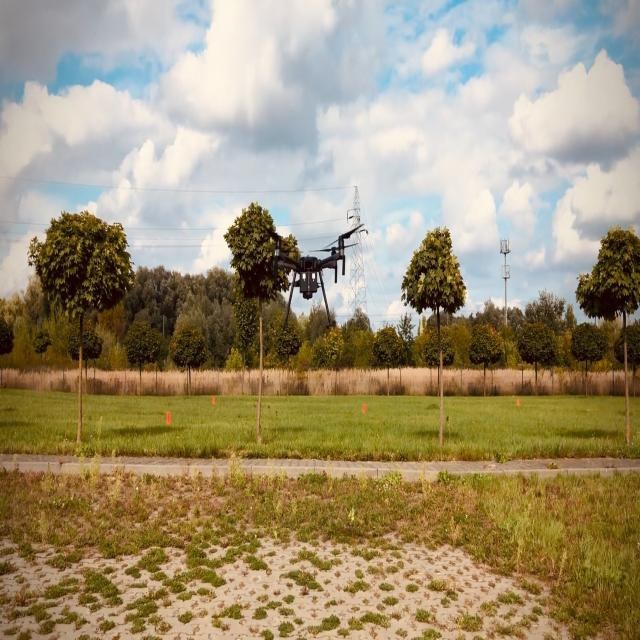drone: (271, 221, 368, 330)
